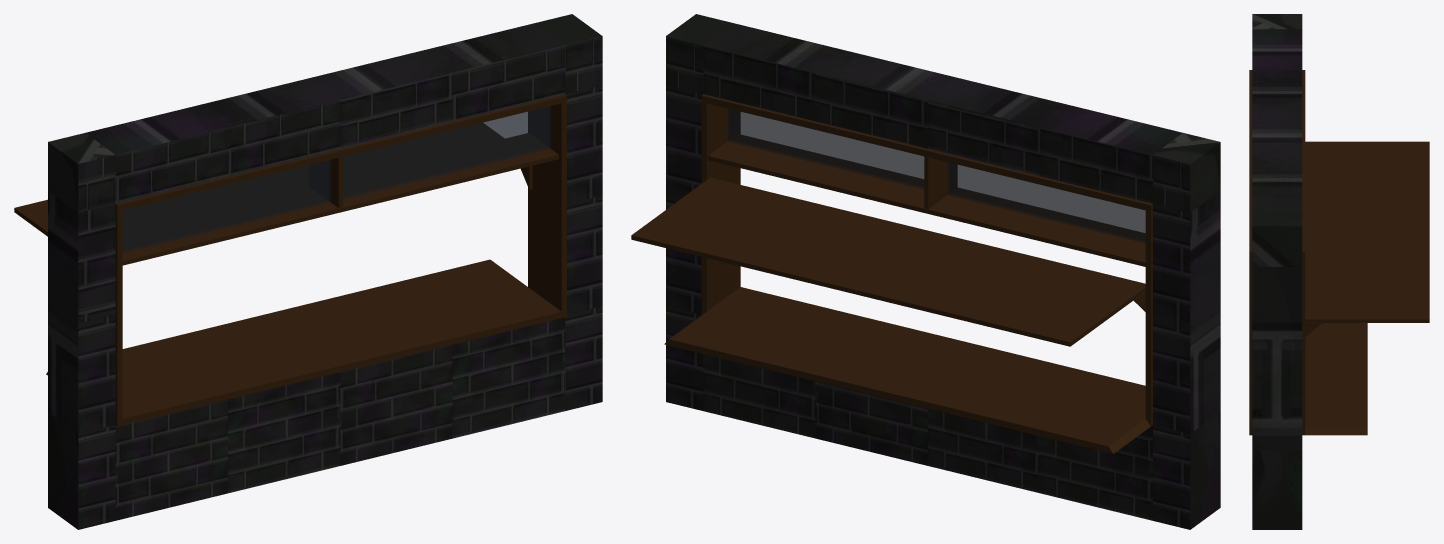
The model's file is CounterTextured.fbx.
3 views of the same model, side by side, from view 1: azimuth 30°, elevation 25°; view 2: azimuth 150°, elevation 25°; view 3: azimuth 270°, elevation 25° (orthographic). The views are drawn at different scales.
Visible parts, largest first — view 1: Cube.282, Cube.283, Cube.357, Cube.284, Cube.358; view 2: Cube.282, Cube.283, Cube.358, Cube.284, Cube.357; view 3: Cube.282, Cube.358, Cube.283.
Boxes of the visible parts, <box> form: Cube.282: <box>48,14,602,529</box>; Cube.283: <box>46,94,566,426</box>; Cube.357: <box>122,106,550,252</box>; Cube.284: <box>122,133,558,265</box>; Cube.358: <box>14,123,532,236</box>; Cube.282: <box>666,14,1220,529</box>; Cube.283: <box>664,94,1152,453</box>; Cube.358: <box>631,177,1145,346</box>; Cube.284: <box>708,134,1145,266</box>; Cube.357: <box>727,108,1145,243</box>; Cube.282: <box>1252,14,1302,529</box>; Cube.358: <box>1305,141,1429,337</box>; Cube.283: <box>1249,70,1367,435</box>.
Bounding box in the file's own units: 600 × 400 × 216.
